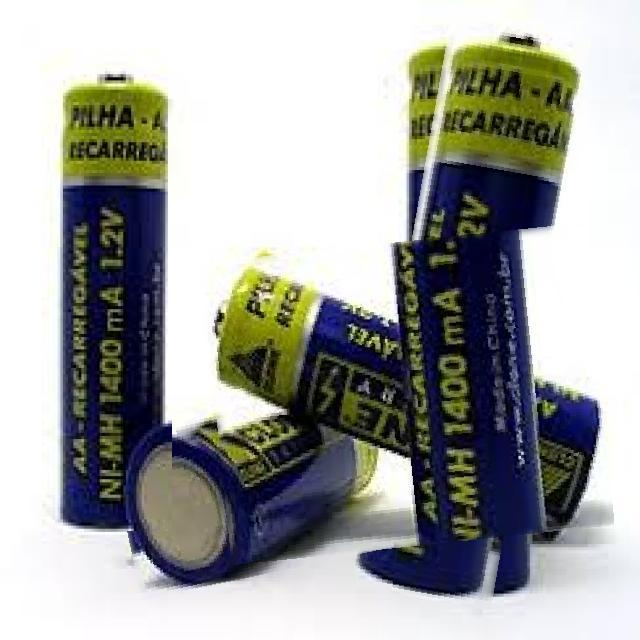Battery: (363, 18, 592, 610), (186, 246, 603, 525), (51, 50, 181, 536), (117, 409, 390, 588)
